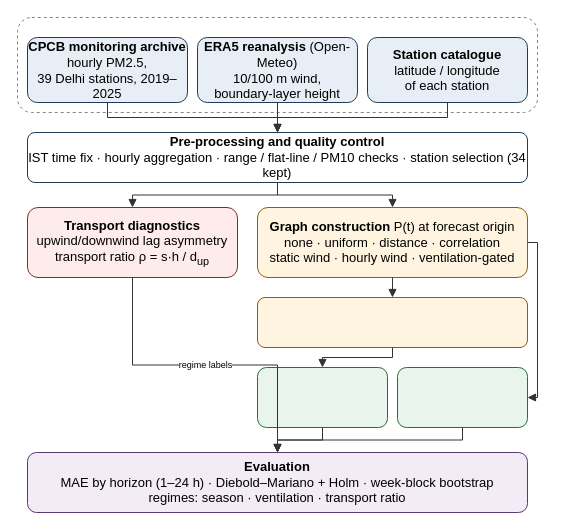
The diagram is 563 pixels wide and 530 high, and some of its shapes have lost their labels. The shapes that lost their labels are listed below. From the top down, each one's box as (x1, y1, x2, y2) in pixels, then its label:
(16, 16, 538, 112): Data sources
(256, 296, 528, 348): Neighbour aggregation m j (t−ℓ) = Σ i P ji x i / Σ i P ji + edge mass
(256, 366, 388, 428): XGBoost (fixed learner) target: change from current value
(396, 366, 528, 428): Graph WaveNet-style GNN forward-only diffusion
